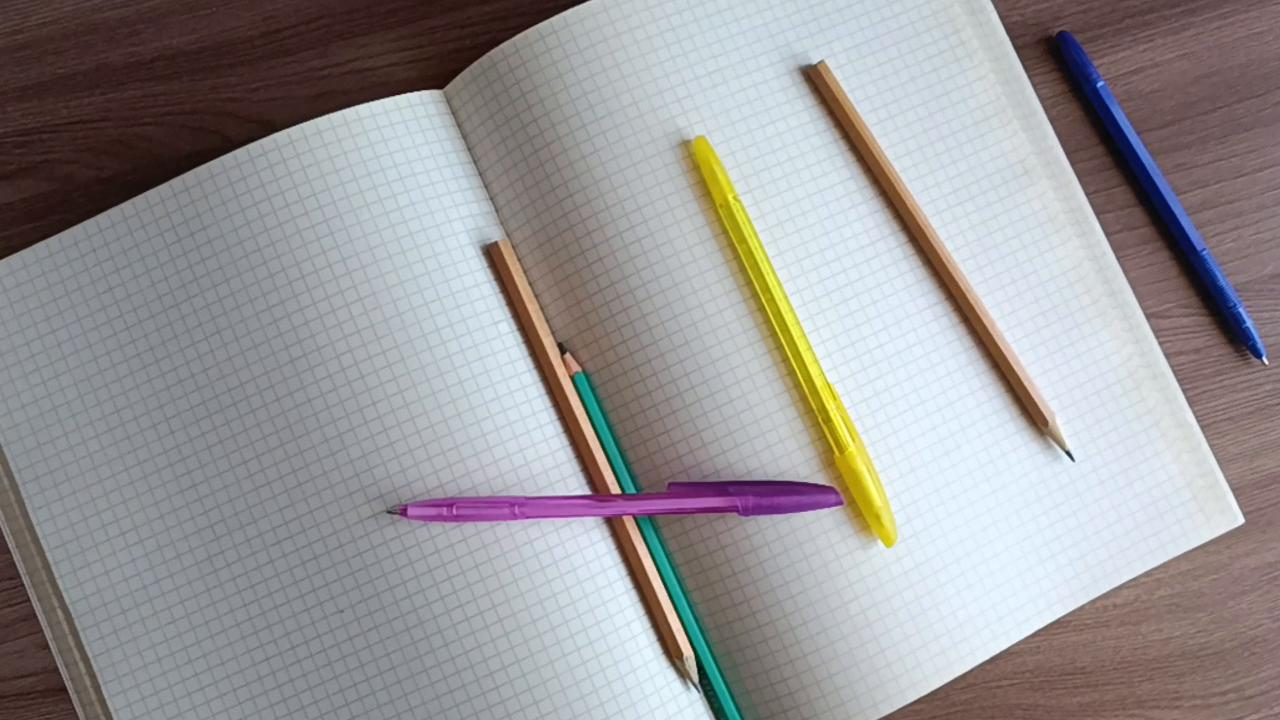pen: (686, 135, 903, 552), (1051, 23, 1280, 371), (384, 473, 845, 528)
pencil: (804, 59, 1080, 464), (479, 237, 704, 699), (559, 340, 746, 720)
